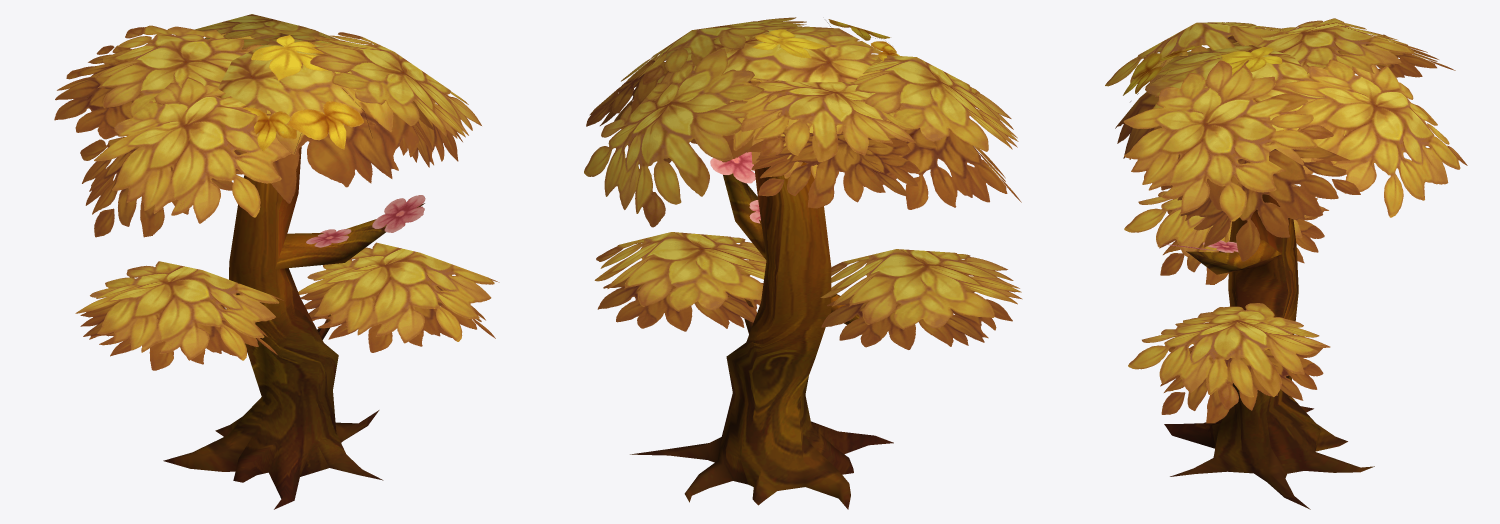
File: loyalismwood_tree02.FBX
The picture shows the model from 3 angles, left to right: view 1: azimuth 30°, elevation 25°; view 2: azimuth 150°, elevation 25°; view 3: azimuth 270°, elevation 25°; orthographic projection. The views are drawn at different scales.
Parts seen in each view (by area): view 1: loyalismwood_tree02; view 2: loyalismwood_tree02; view 3: loyalismwood_tree02.
Part boxes in pixels (x1,y1,x2,y2): loyalismwood_tree02: [54, 14, 499, 509]; loyalismwood_tree02: [584, 17, 1022, 509]; loyalismwood_tree02: [1105, 18, 1467, 509].
Bounding box in the file's own units: 794 × 633 × 705.
